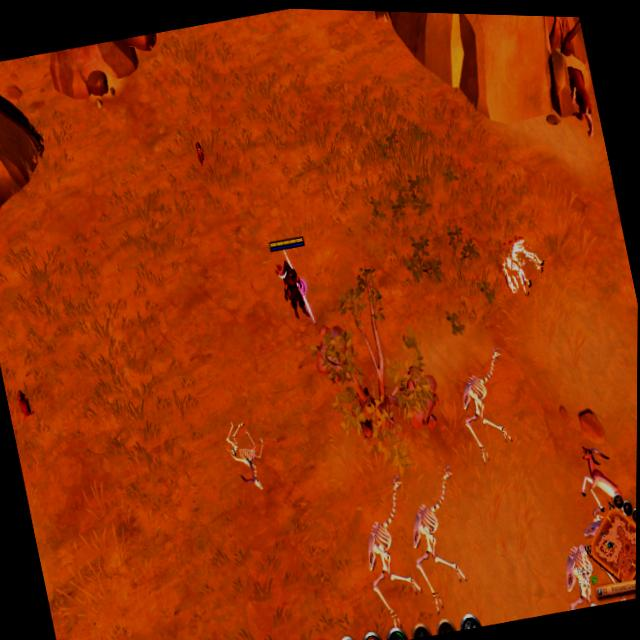mob: (567, 434, 627, 523)
ore: (558, 58, 599, 141)
red: (265, 230, 321, 328)
